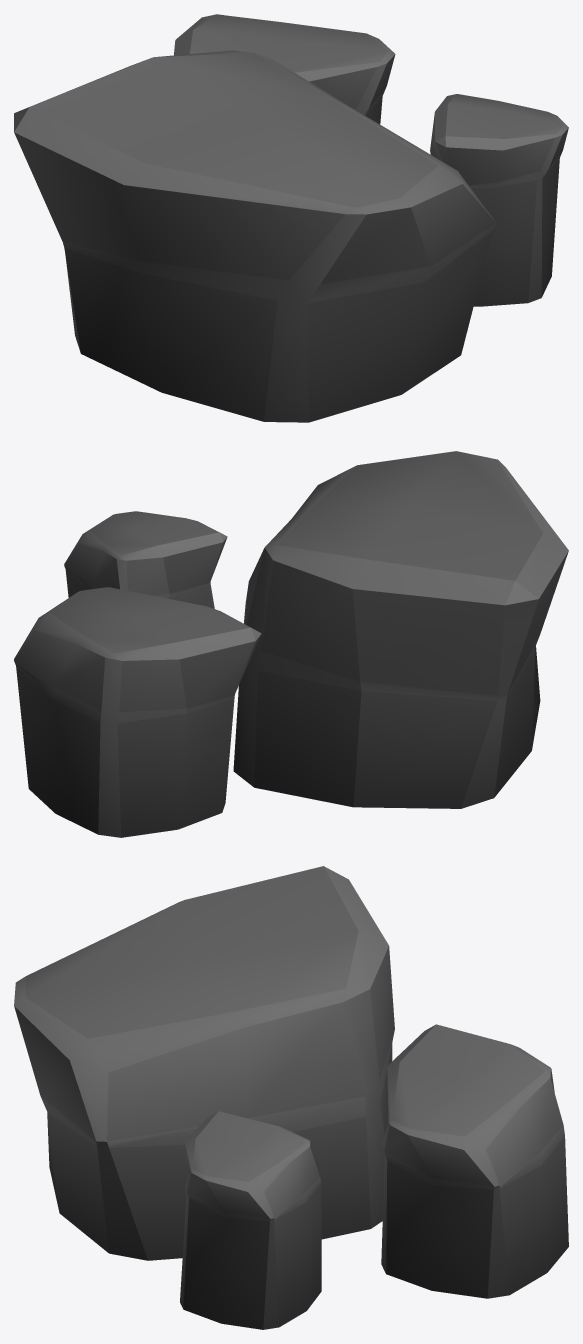
Rendered from Stone.fbx.
The picture shows the model from 3 angles, top to bottom: view 1: azimuth 30°, elevation 25°; view 2: azimuth 150°, elevation 25°; view 3: azimuth 270°, elevation 25°; orthographic projection. The views are drawn at different scales.
Parts seen in each view (by area): view 1: Stone; view 2: Stone; view 3: Stone.
Boxes of the visible parts, x1=… form: Stone: x1=14, y1=14, x2=568, y2=422; Stone: x1=14, y1=451, x2=568, y2=837; Stone: x1=14, y1=866, x2=568, y2=1329.
Bounding box in the file's own units: 38.8 × 17.75 × 37.45.
Materials: 1 (1 with a texture image).
